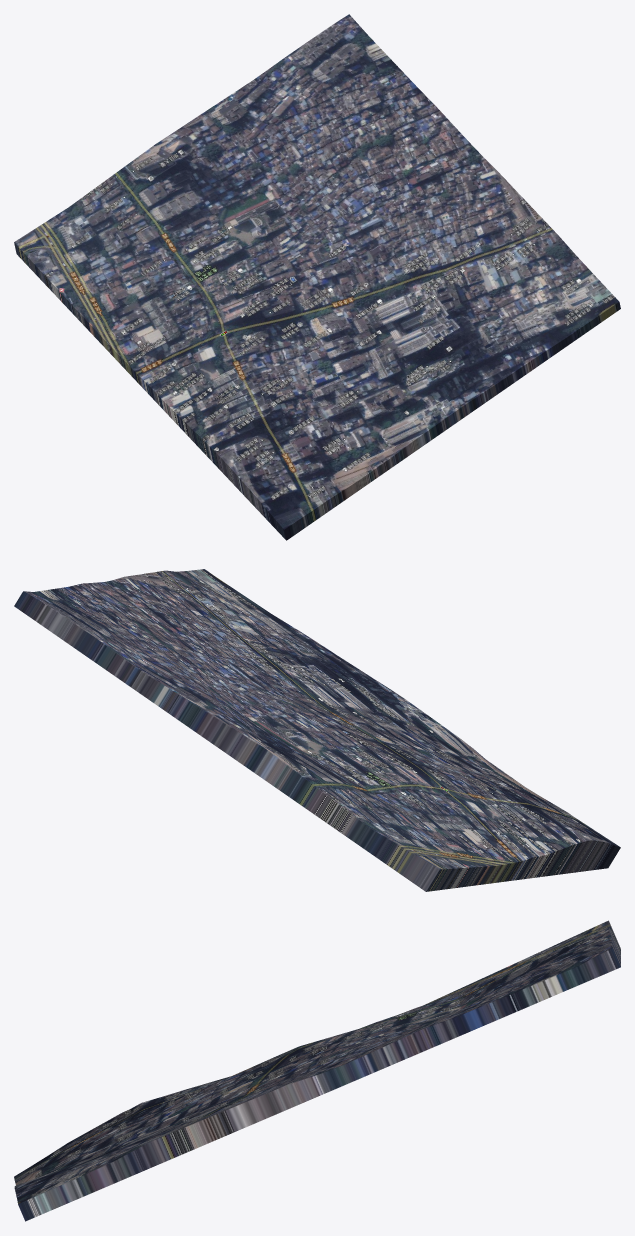
The picture shows the model from 3 angles, top to bottom: view 1: azimuth 30°, elevation 25°; view 2: azimuth 150°, elevation 25°; view 3: azimuth 270°, elevation 25°; orthographic projection. The views are drawn at different scales.
Parts seen in each view (by area): view 1: 0_10_8; view 2: 0_10_8; view 3: 0_10_8.
Part boxes in pixels (x1,y1,x2,y2): 0_10_8: (14,14,620,540); 0_10_8: (14,569,620,891); 0_10_8: (14,920,620,1221).
Bounding box in the file's own units: 602 × 444 × 552.
Materials: 1 (1 with a texture image).
